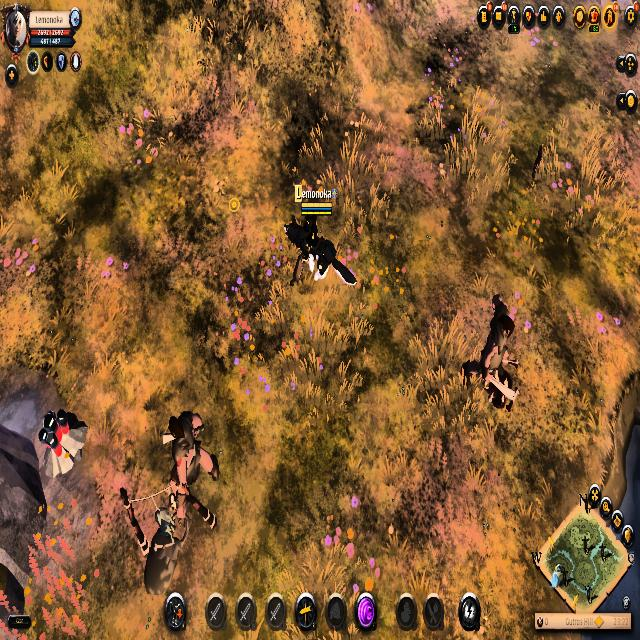ore tier 5: (38, 407, 90, 476)
